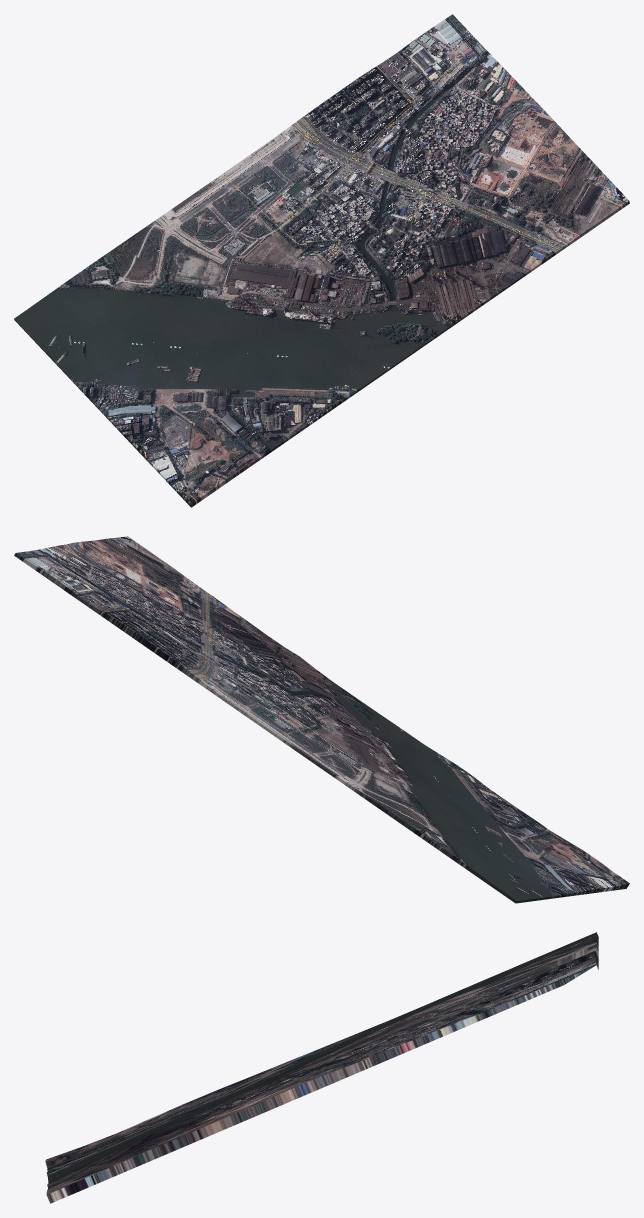
3 renders of one model, top to bottom at view 1: azimuth 30°, elevation 25°; view 2: azimuth 150°, elevation 25°; view 3: azimuth 270°, elevation 25°, orthographic. The views are drawn at different scales.
Visible parts, largest first — view 1: 2_5_2; view 2: 2_5_2; view 3: 2_5_2.
Part boxes in pixels (box(x1,y1,x2,y2)): 2_5_2: box(14, 14, 629, 507); 2_5_2: box(14, 536, 629, 903); 2_5_2: box(45, 932, 598, 1203).
Bounding box in the file's own units: 2261 × 1337 × 1130.
1 material, 1 textured.
